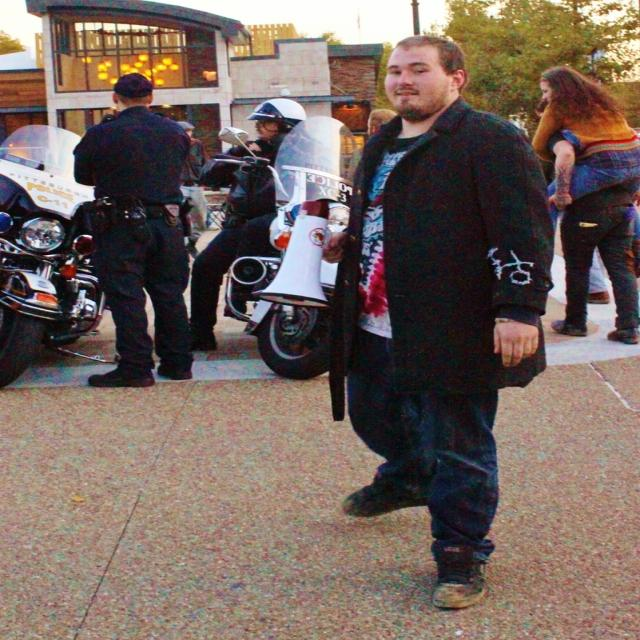Motorbikes: (223, 130, 367, 386), (1, 157, 132, 387)
Pedestrians: (328, 34, 555, 608), (82, 74, 198, 390)
